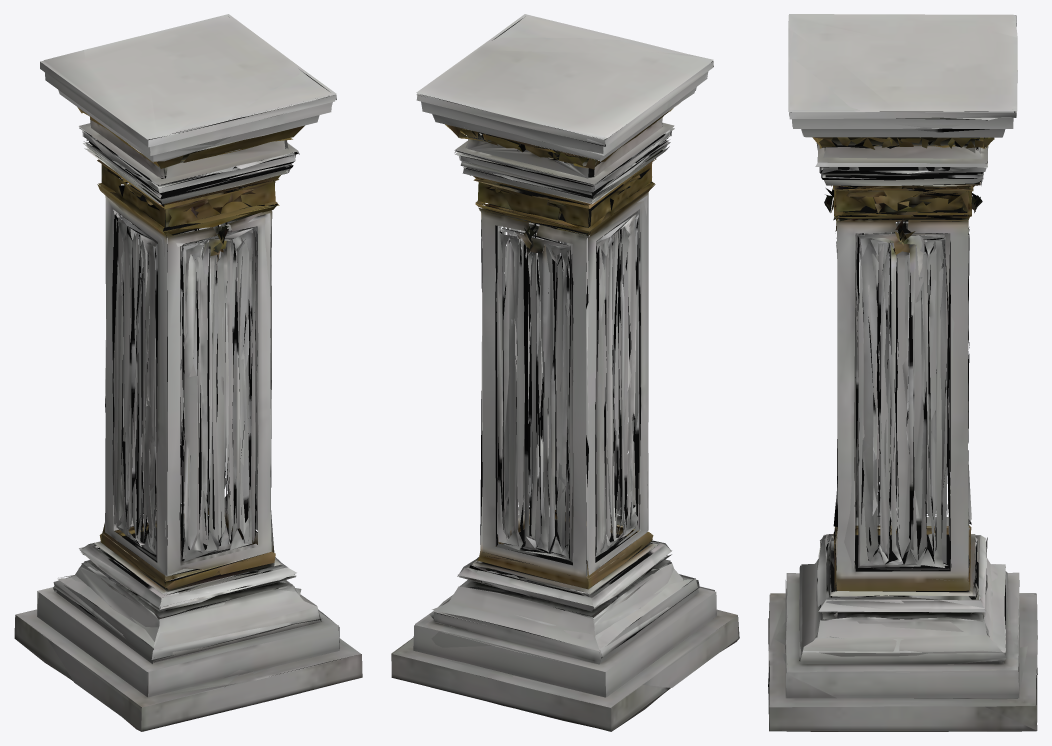
Rendered from town_pier.glb.
3 renders of one model, left to right at view 1: azimuth 30°, elevation 25°; view 2: azimuth 150°, elevation 25°; view 3: azimuth 270°, elevation 25°, orthographic. The views are drawn at different scales.
Parts seen in each view (by area): view 1: town_pier; view 2: town_pier; view 3: town_pier.
Part boxes in pixels (<box>): town_pier: <box>14,14,362,731</box>; town_pier: <box>391,14,739,731</box>; town_pier: <box>768,14,1037,731</box>.
Size of the model in its own units: 3.28 by 8.21 by 3.27.
1 material, 1 textured.
